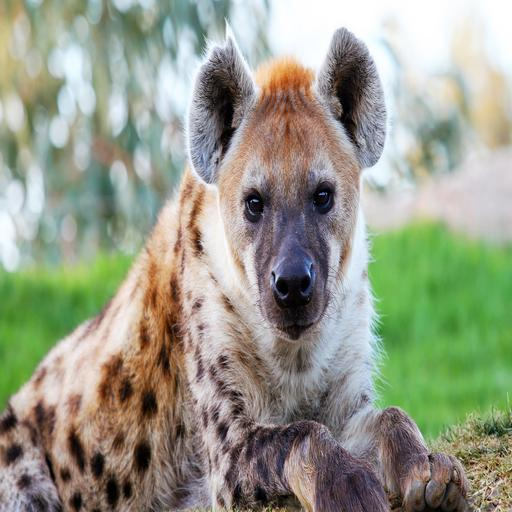Hyena: (0, 25, 475, 512)
